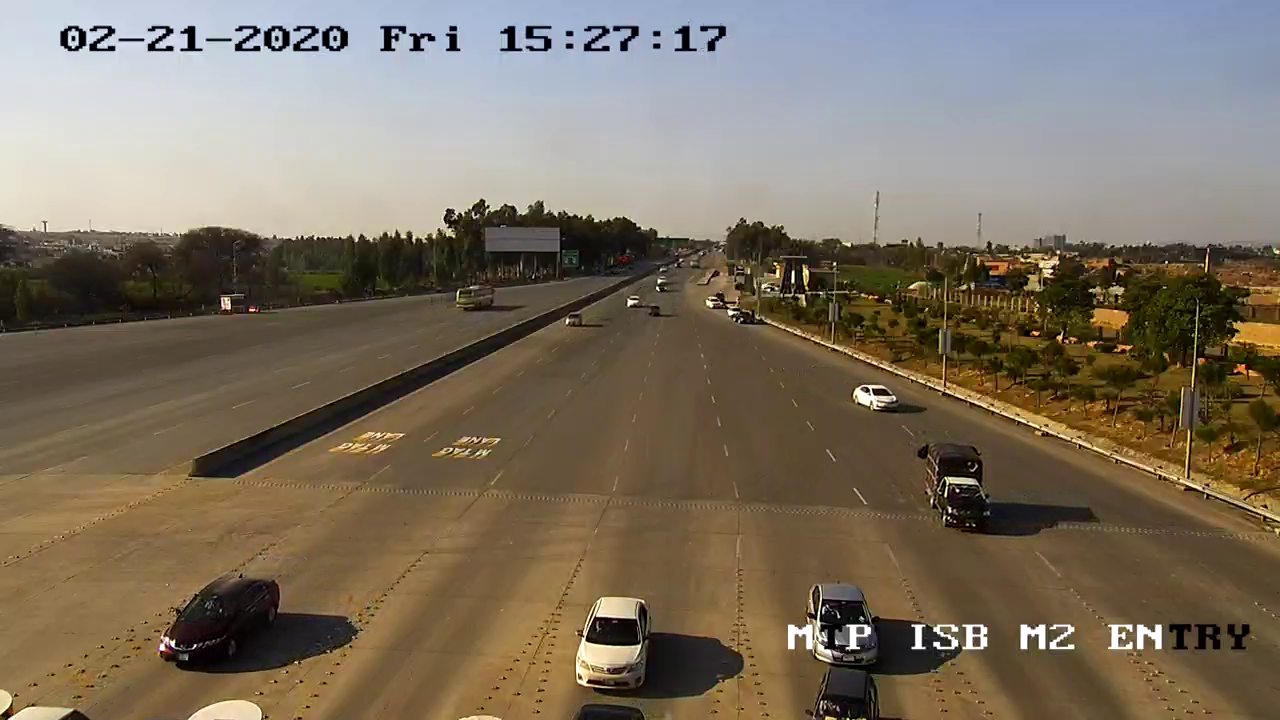f1: (146, 549, 291, 680), (572, 589, 654, 695)
